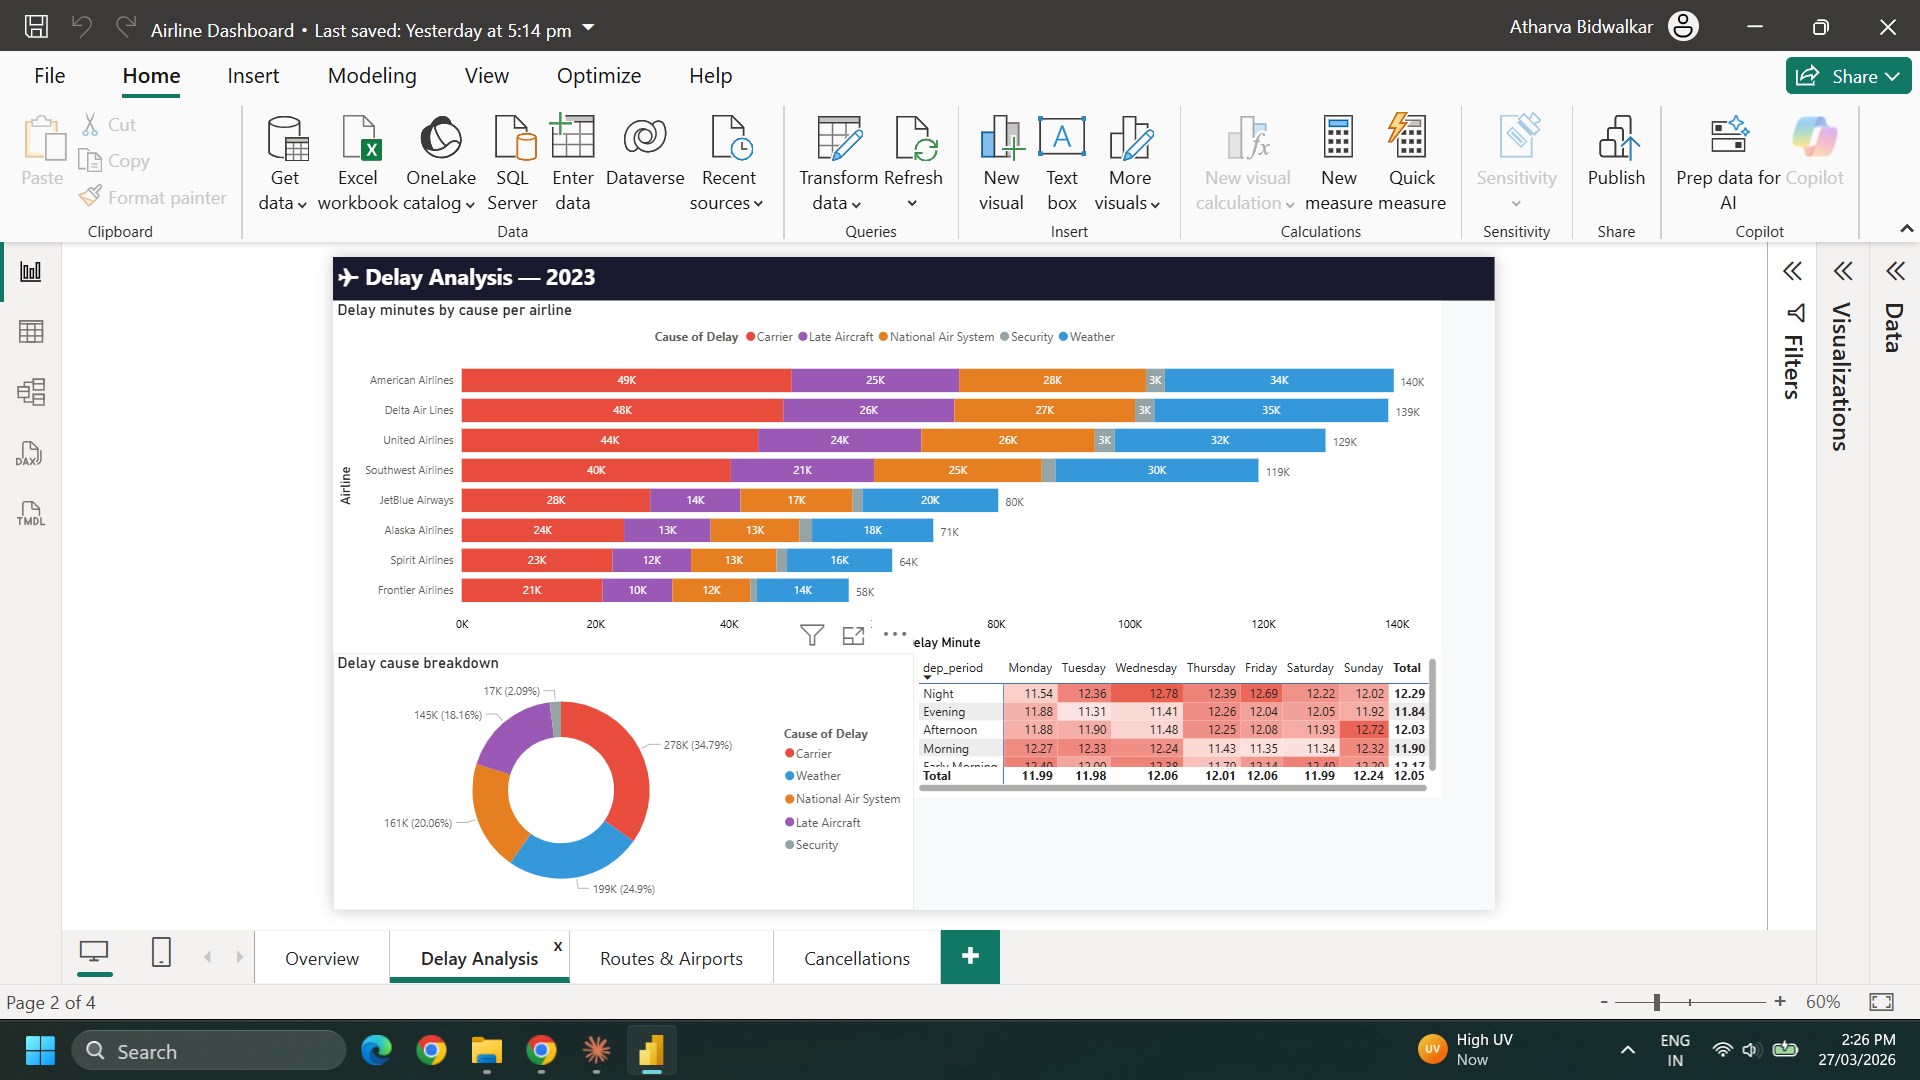

The page's visual inventory and layout, read from the dashboard file:
{"tool":"powerbi","page":{"name":"Delay Analysis","canvas":[1280,720],"ordinal":1},"visuals":[{"type":"shape","box":[0,0,1280,48],"z":0},{"type":"textbox","box":[0,0,460,48],"z":1000},{"type":"barChart","title":"Delay minutes by cause per airline","fields":{"Category":["Fact_Delay_Causes.carrier_name"],"Y":["Sum(Fact_Delay_Causes.delay_minutes)"],"Series":["Fact_Delay_Causes.delay_cause"]},"box":[0,48,1221,389],"z":2000},{"type":"donutChart","title":"Delay cause breakdown","fields":{"Y":["Sum(Fact_Delay_Causes.delay_minutes)"],"Category":["Fact_Delay_Causes.delay_cause"]},"box":[0,437,640,283],"z":3000},{"type":"pivotTable","fields":{"Rows":["Fact_Time_of_Day.dep_period"],"Columns":["Fact_Time_of_Day.day_name"],"Values":["Avg(Fact_Time_of_Day.delay_rate_pct)"]},"box":[640,437,581,158],"z":3001}]}

Visuals, with their boxes on the page's 1280x720 design canvas (x1, y1, x2, y2). These are canvas units, not pixel positions in the 1920x1080 screenshot, which may show the page scaled, cropped or inside an application window:
shape: [0,0,1280,48]
textbox: [0,0,460,48]
"Delay minutes by cause per airline" barChart: [0,48,1221,437]
"Delay cause breakdown" donutChart: [0,437,640,720]
pivotTable - Fact_Time_of_Day.dep_period x Fact_Time_of_Day.day_name: [640,437,1221,595]
